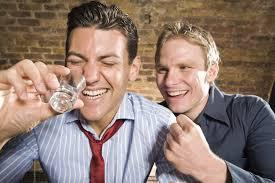Drunk: (70, 33, 122, 118), (158, 41, 201, 110)
